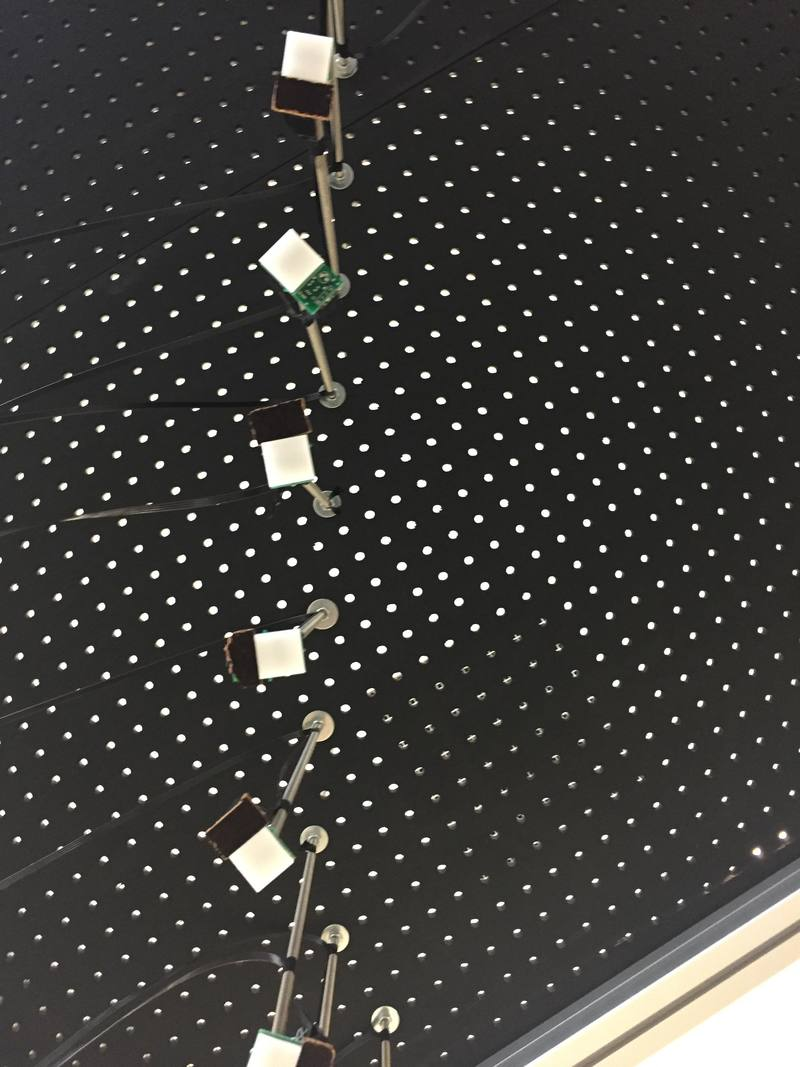target: (225, 827, 296, 901), (252, 227, 324, 297), (271, 27, 337, 91), (249, 626, 311, 677), (257, 437, 321, 483)
